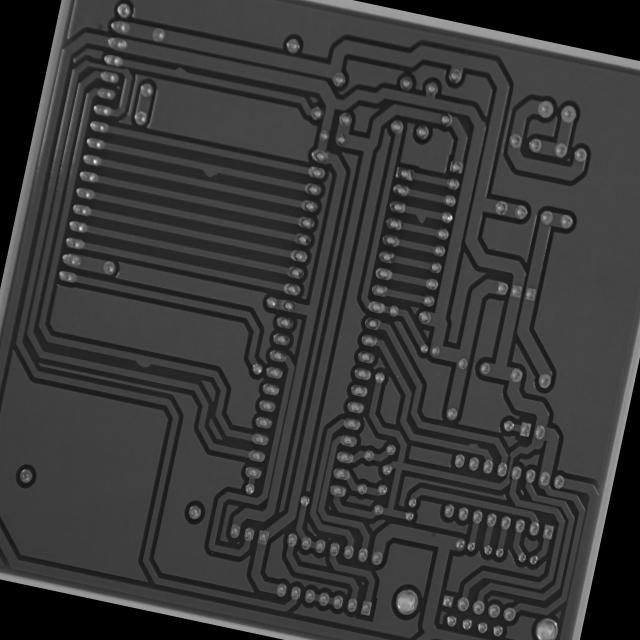spur: (193, 158, 223, 184), (129, 349, 155, 372), (460, 436, 486, 457), (410, 206, 434, 227), (168, 61, 191, 80)
